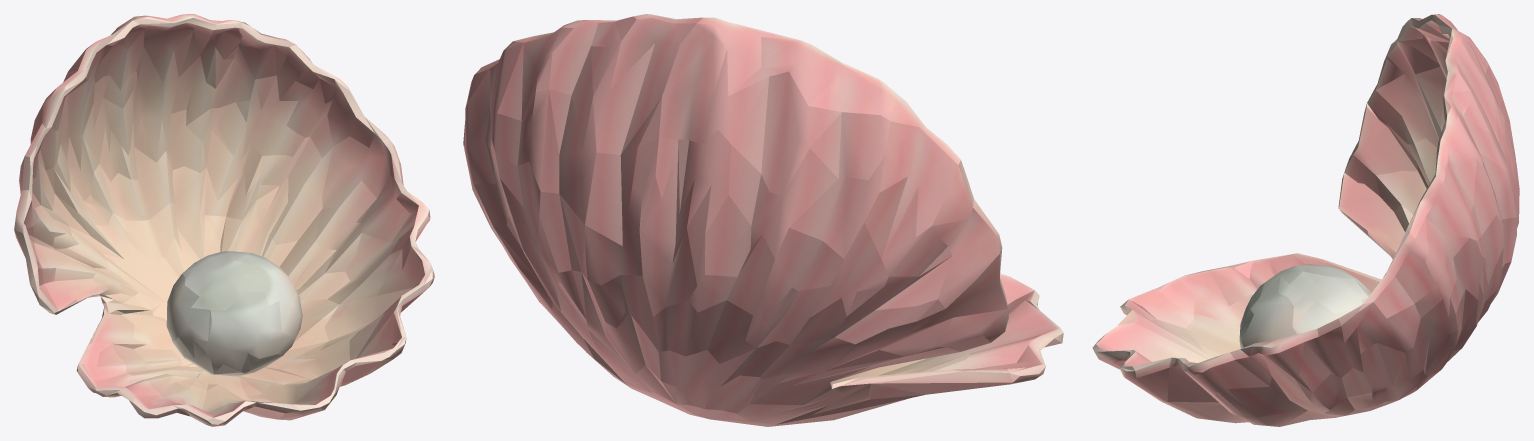
File: seashell.glb
The picture shows the model from 3 angles, left to right: view 1: azimuth 30°, elevation 25°; view 2: azimuth 150°, elevation 25°; view 3: azimuth 270°, elevation 25°; orthographic projection. The views are drawn at different scales.
Bounding box in the file's own units: 1.9 × 1.57 × 1.7.
Materials: 1 (1 with a texture image).
